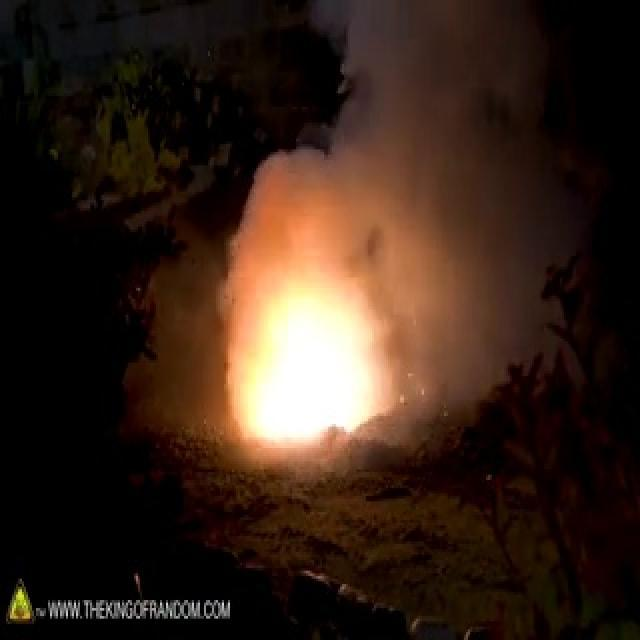fire: (239, 255, 405, 446)
